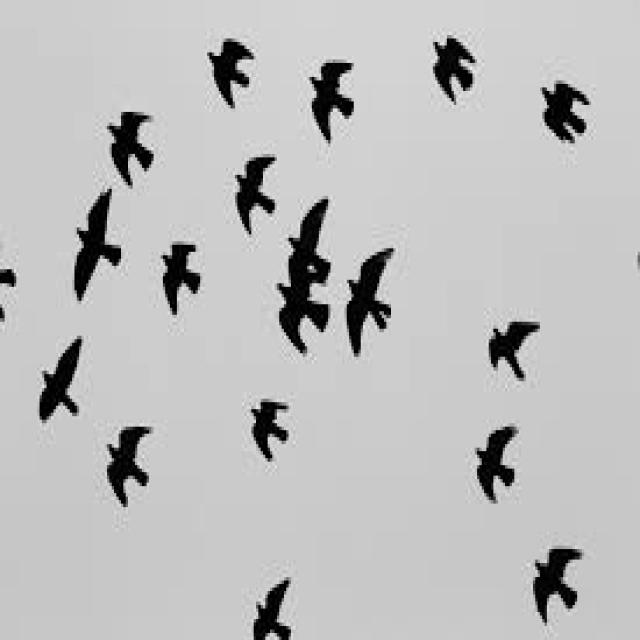bird: (337, 243, 405, 357), (65, 185, 125, 301), (32, 329, 94, 436), (303, 44, 361, 156), (517, 536, 592, 622), (103, 95, 167, 193), (468, 408, 526, 506), (476, 307, 552, 379), (532, 68, 597, 152), (198, 34, 259, 120), (286, 192, 335, 294), (103, 417, 154, 509), (157, 239, 214, 320), (422, 33, 479, 113), (272, 276, 330, 353), (240, 569, 302, 640), (231, 146, 279, 235), (244, 390, 298, 454)
